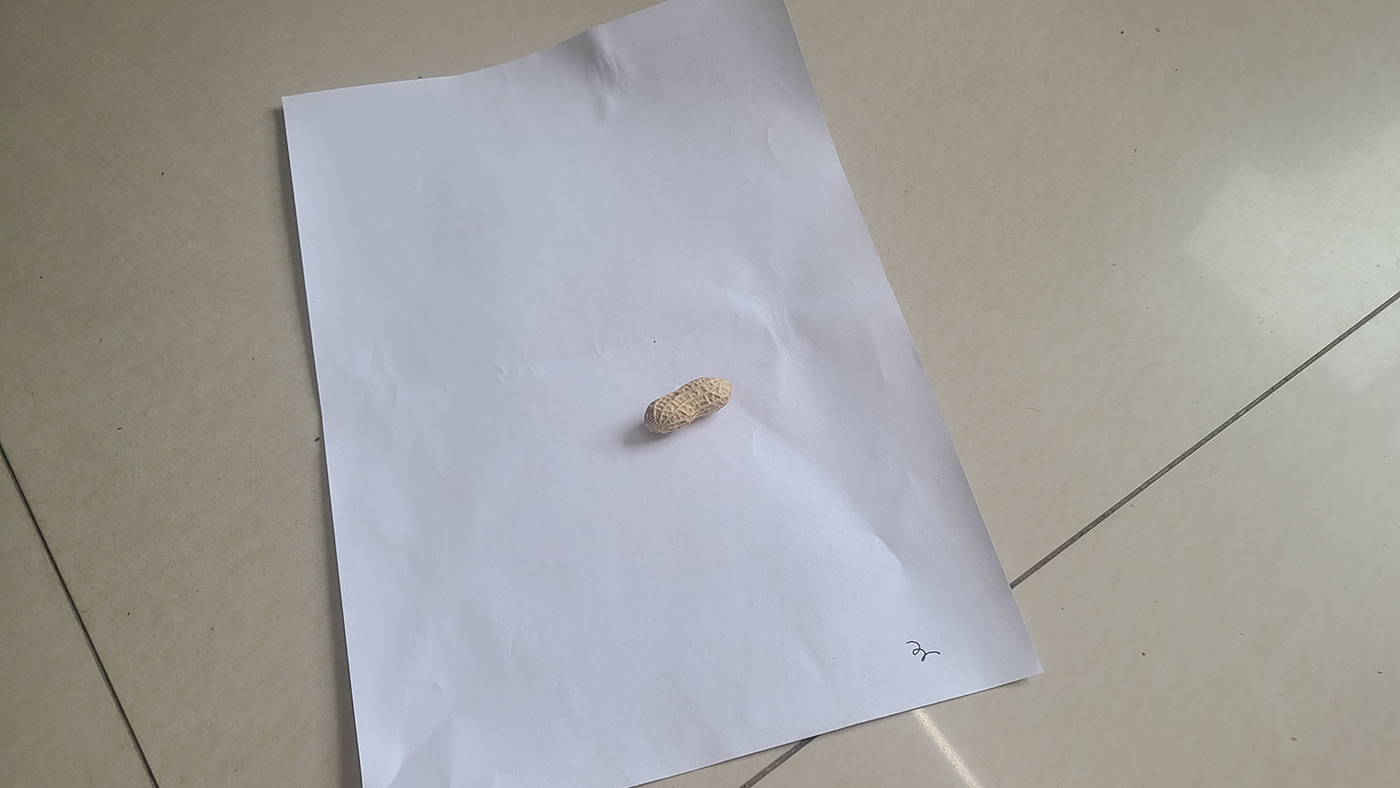h: (642, 376, 735, 434)
